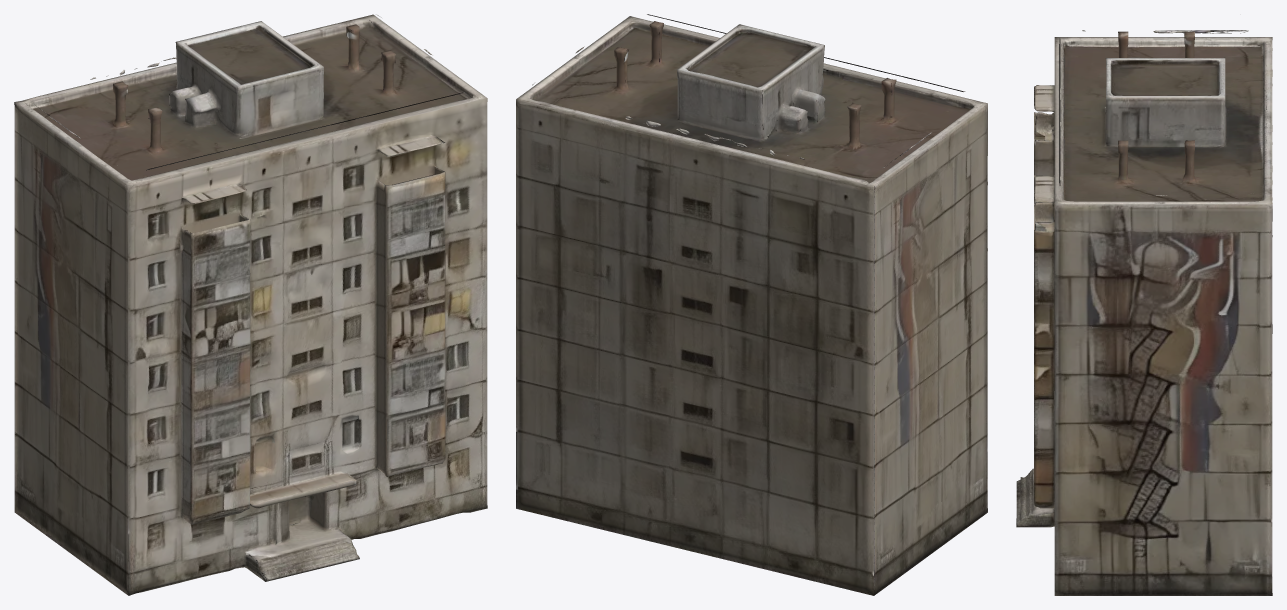
Rendered from building_brezhnevka.glb.
3 views of the same model, side by side, from view 1: azimuth 30°, elevation 25°; view 2: azimuth 150°, elevation 25°; view 3: azimuth 270°, elevation 25° (orthographic). The views are drawn at different scales.
Parts seen in each view (by area): view 1: building_brezhnevka; view 2: building_brezhnevka; view 3: building_brezhnevka.
Boxes of the visible parts, x1,y1,x2,y2 form: building_brezhnevka: (14, 14, 487, 595); building_brezhnevka: (516, 14, 987, 595); building_brezhnevka: (1016, 30, 1272, 595).
Size of the model in its own units: 40 by 48.49 by 25.89.
Materials: 1 (1 with a texture image).
